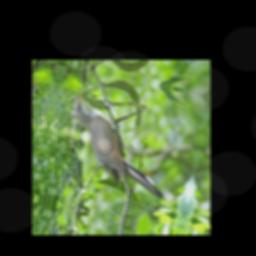Cuckoo: (59, 88, 181, 199)
